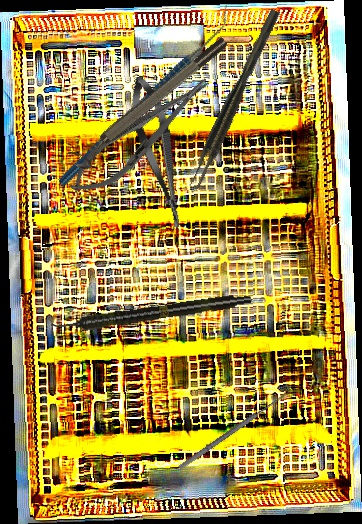Chopper: (21, 4, 267, 187)
Fixation Ring: (66, 34, 236, 174)
Handpiece: (50, 290, 253, 336)
Hook Surgical: (173, 382, 295, 473)
Micro Scissor: (123, 72, 194, 235)
Needle Holder: (60, 65, 221, 207)
Tissue Forceps: (185, 8, 286, 191)
